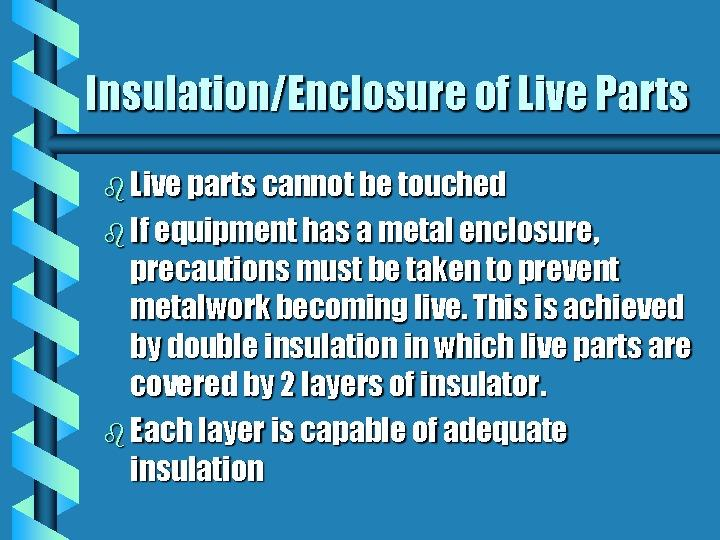paragraph: (121, 160, 703, 515)
title: (80, 37, 702, 131)
